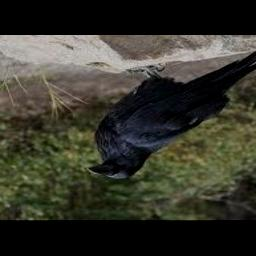Crow: (85, 49, 256, 180)
